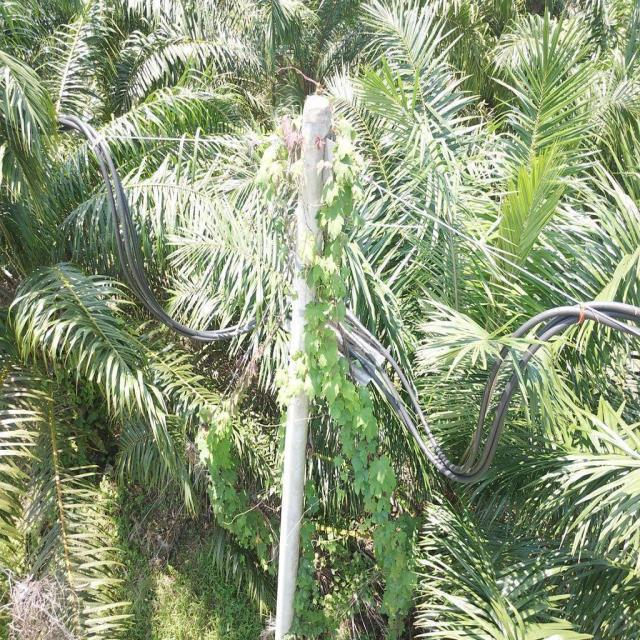critical vegetation: (282, 122, 426, 636)
